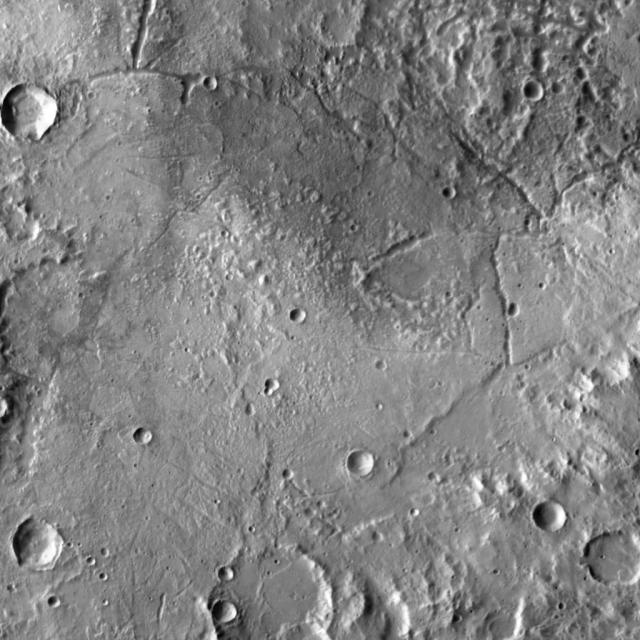crater: (210, 547, 336, 640), (587, 528, 640, 586), (1, 84, 56, 138), (12, 520, 64, 570), (320, 8, 360, 46), (488, 609, 525, 640), (532, 501, 566, 533), (348, 451, 374, 476), (212, 600, 236, 624), (521, 81, 544, 103), (133, 426, 153, 444), (0, 397, 15, 419), (290, 309, 306, 325), (218, 566, 234, 582), (266, 378, 280, 392), (204, 76, 218, 90), (443, 186, 456, 199), (507, 304, 519, 316), (554, 82, 566, 93), (282, 470, 294, 481), (49, 596, 60, 607), (371, 532, 382, 542), (305, 508, 316, 518), (246, 404, 256, 414), (376, 361, 386, 371), (429, 472, 438, 482), (411, 508, 420, 518), (101, 548, 111, 557), (403, 430, 411, 438), (88, 556, 96, 564), (100, 572, 108, 580), (446, 290, 454, 298), (456, 614, 464, 622), (270, 387, 277, 395), (87, 92, 95, 99), (317, 499, 325, 506), (8, 586, 16, 593), (538, 282, 546, 289), (221, 230, 228, 237), (226, 272, 233, 279), (376, 404, 382, 412), (558, 602, 566, 608), (351, 226, 358, 232), (249, 526, 256, 532), (494, 569, 499, 575)
